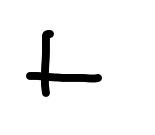plus: (26, 30, 102, 97)
